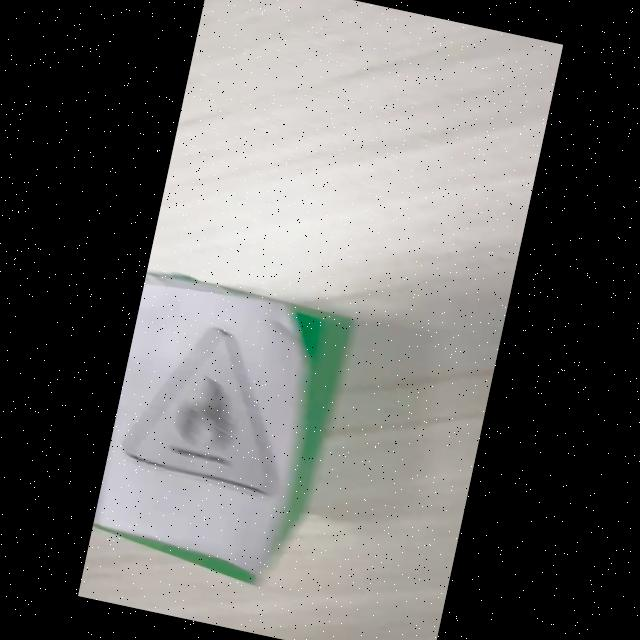Fire: (121, 327, 277, 496)
